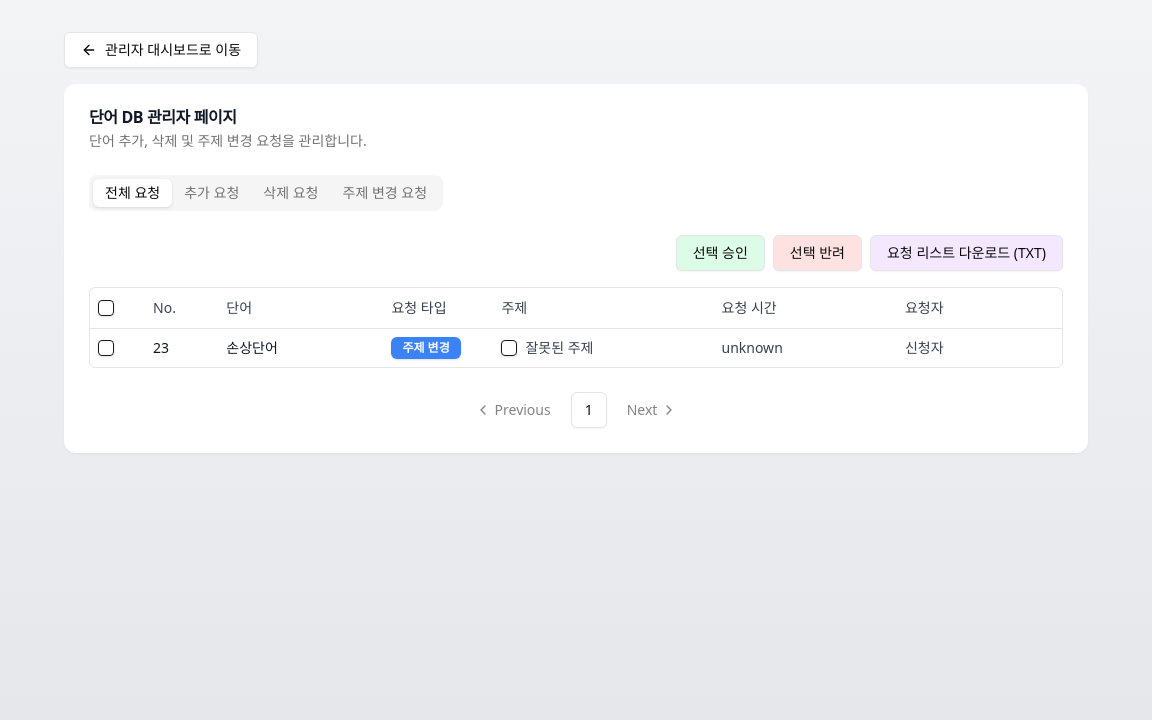
Test case: AdminRequestHome › 누락된 word_id와 typez를 가진 선택도 생략하지 않고 Domain 검증 경계로 전달한다
Click the checkbox named "잘못된 주제" at (509, 348), box 501,340 -> 517,356
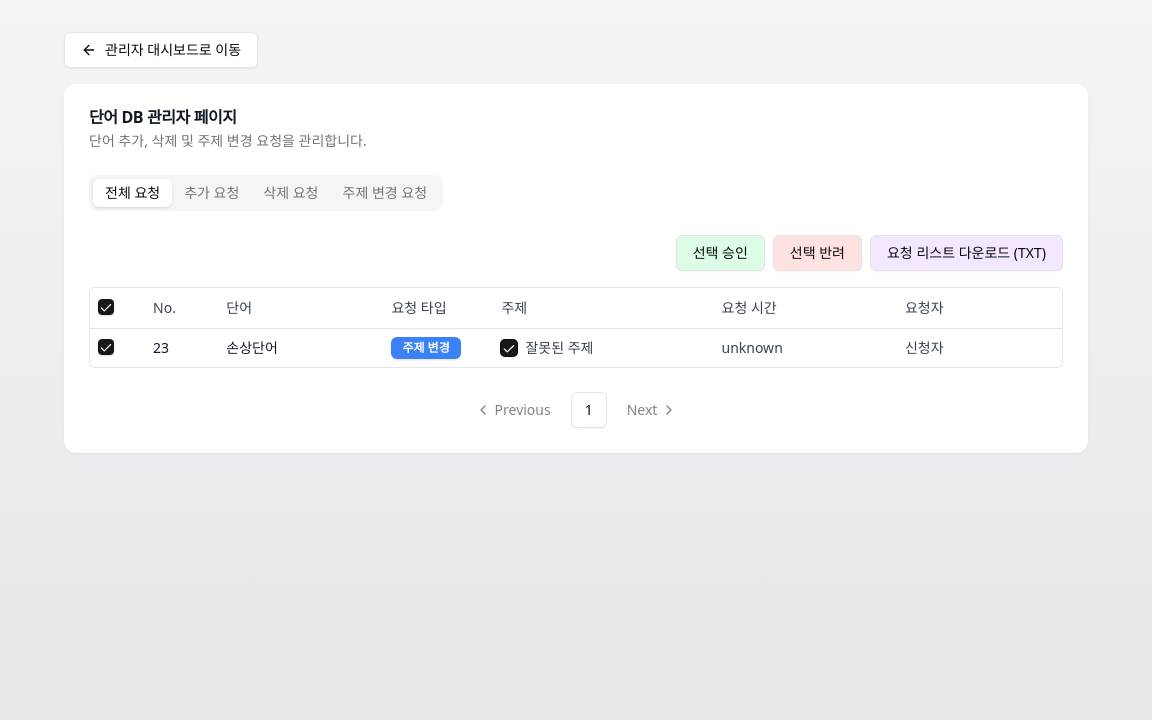
Click the button "선택 승인" at (720, 253), box 676,235 -> 765,271
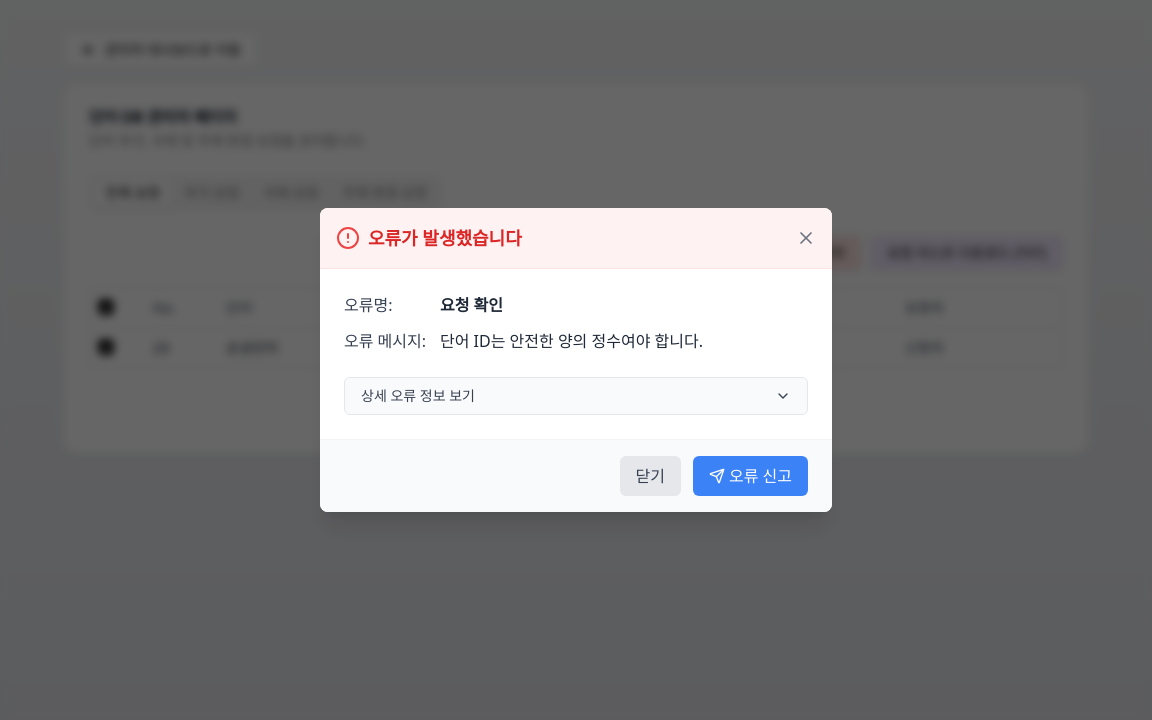
Result: the checkbox named "손상단어 선택" is checked at 98,338 -> 114,354
Result: the text "단어 ID는 안전한 양의 정수여야 합니다." is shown at 440,329 -> 703,353
